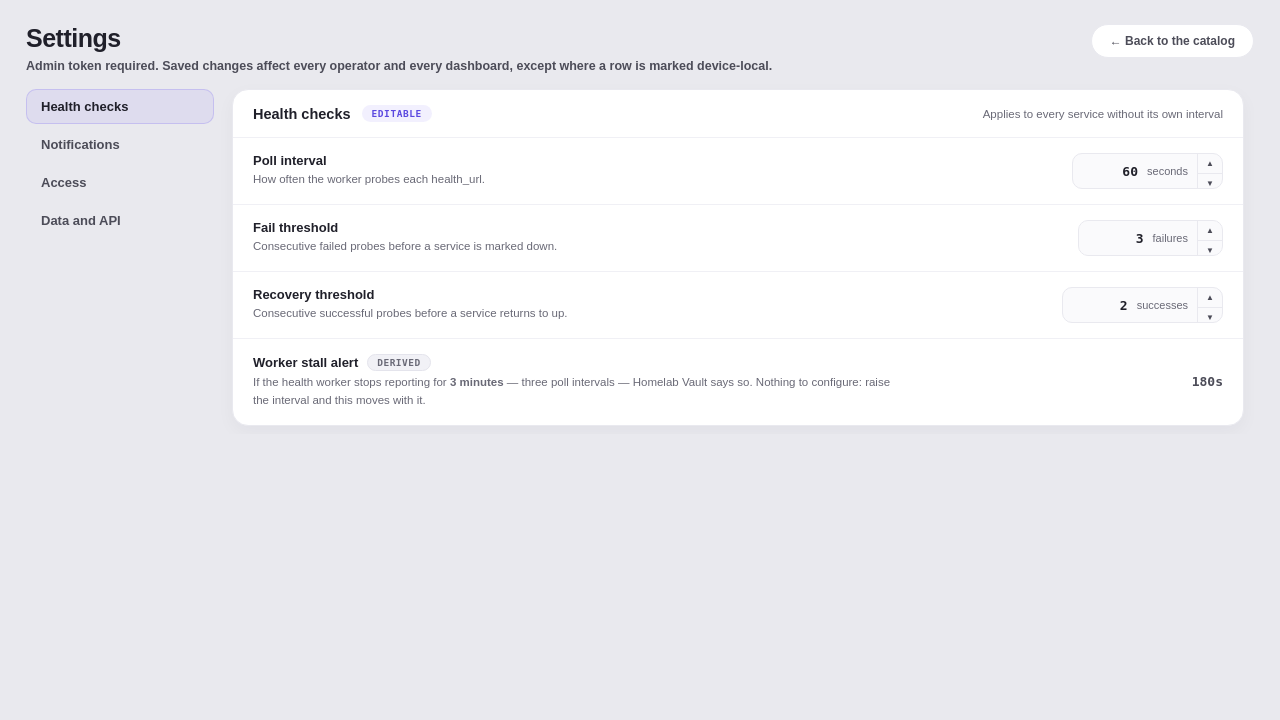
Test: the derived worker-stall row › re-derives from the draft, before anything is saved
Click the button "▲" next to "seconds" at (1210, 164), box x1=1198 y1=154 x2=1222 y2=173
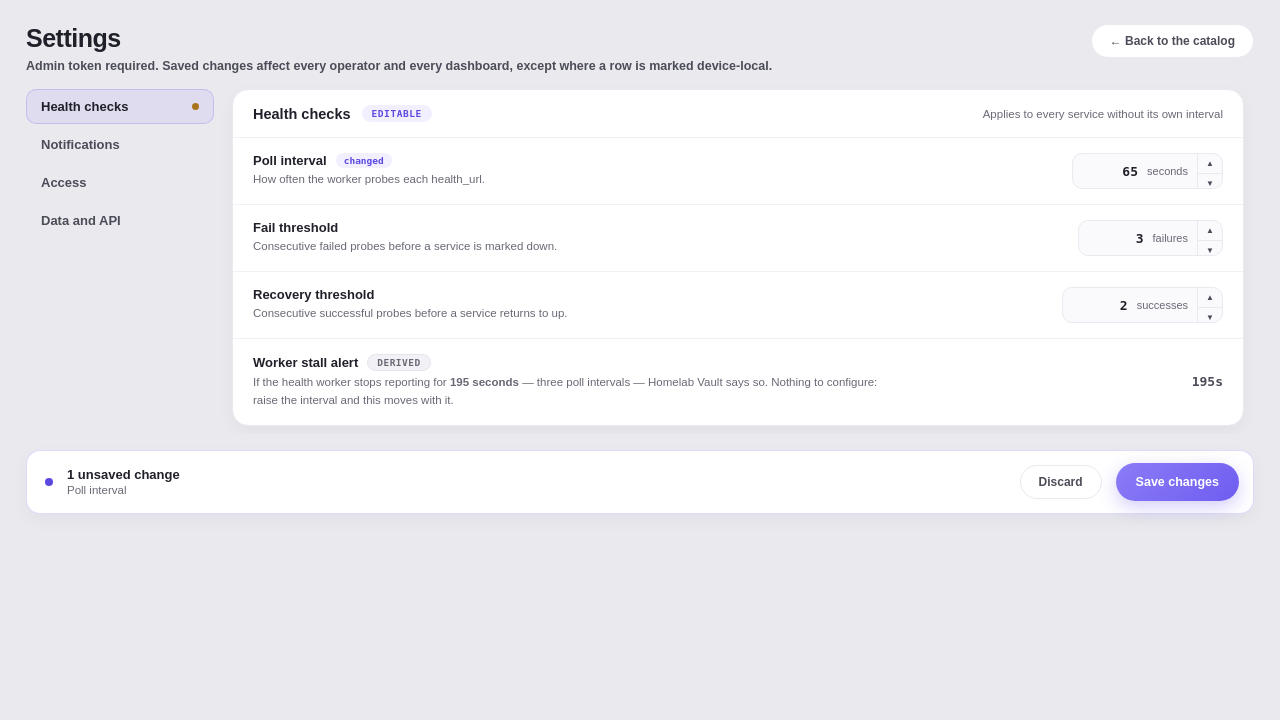
Check: the text "195s" is shown, box x1=1192 y1=374 x2=1223 y2=389
